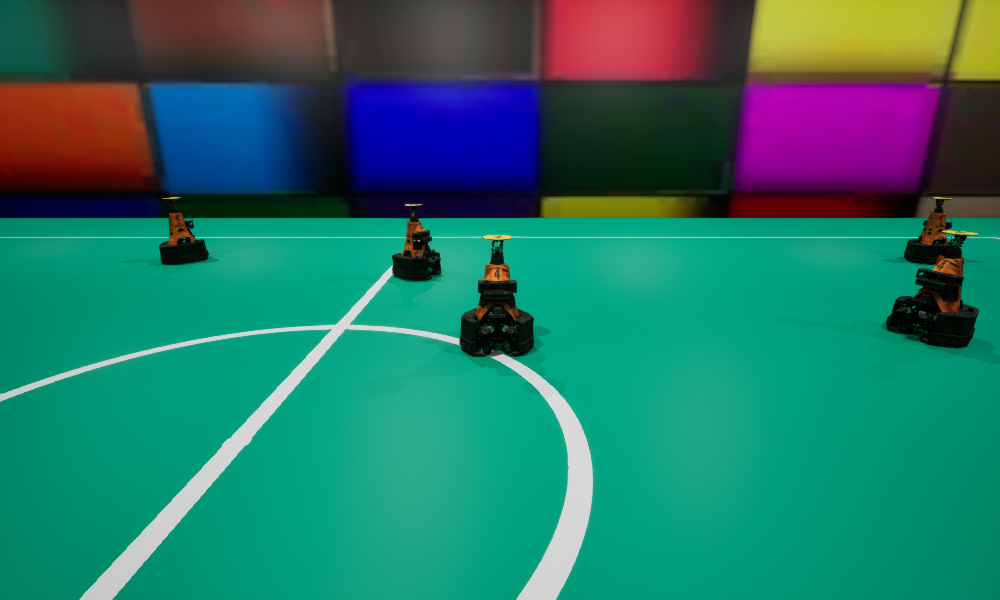0 orange robot TechUnited: (886, 230, 978, 347), (460, 235, 533, 356), (392, 204, 440, 280), (159, 197, 208, 264), (904, 197, 953, 264)
